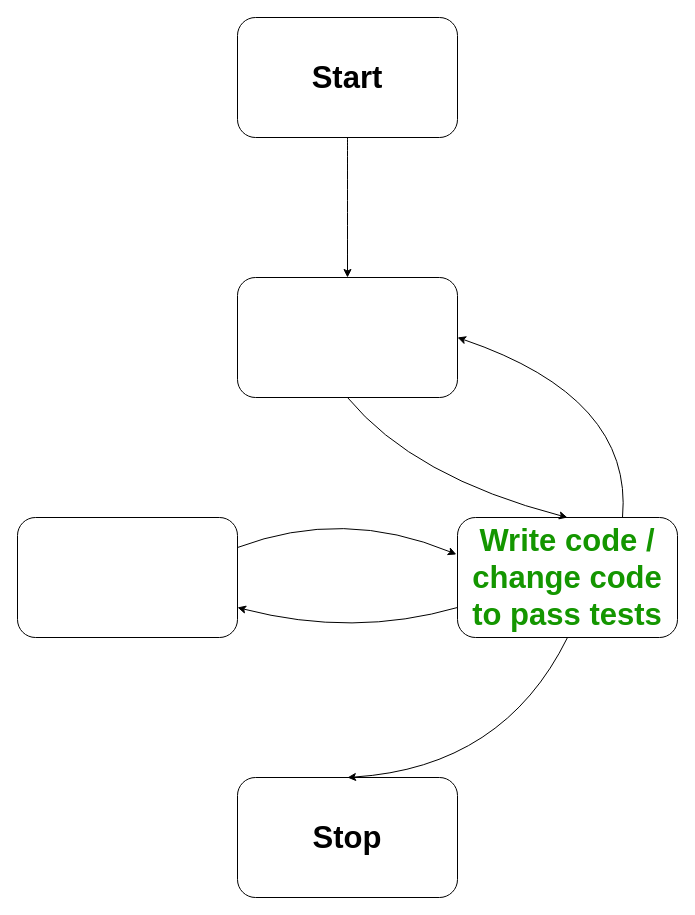
Image size: 695x915. Some labels were removed from this diagram. The shapes that lost their labels are listed below. From the top down, each one's centre as x and y in pixels, then its label:
At point 347,337: "Add a failing test / change a test to fail".
At point 127,577: "Refactor tests and code".
